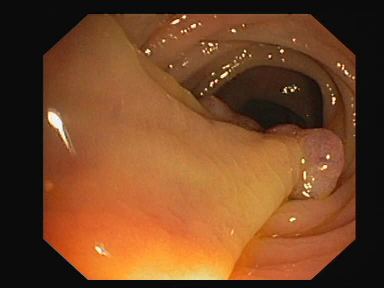polyp: (292, 128, 345, 195), (198, 90, 262, 131), (267, 123, 307, 137)
